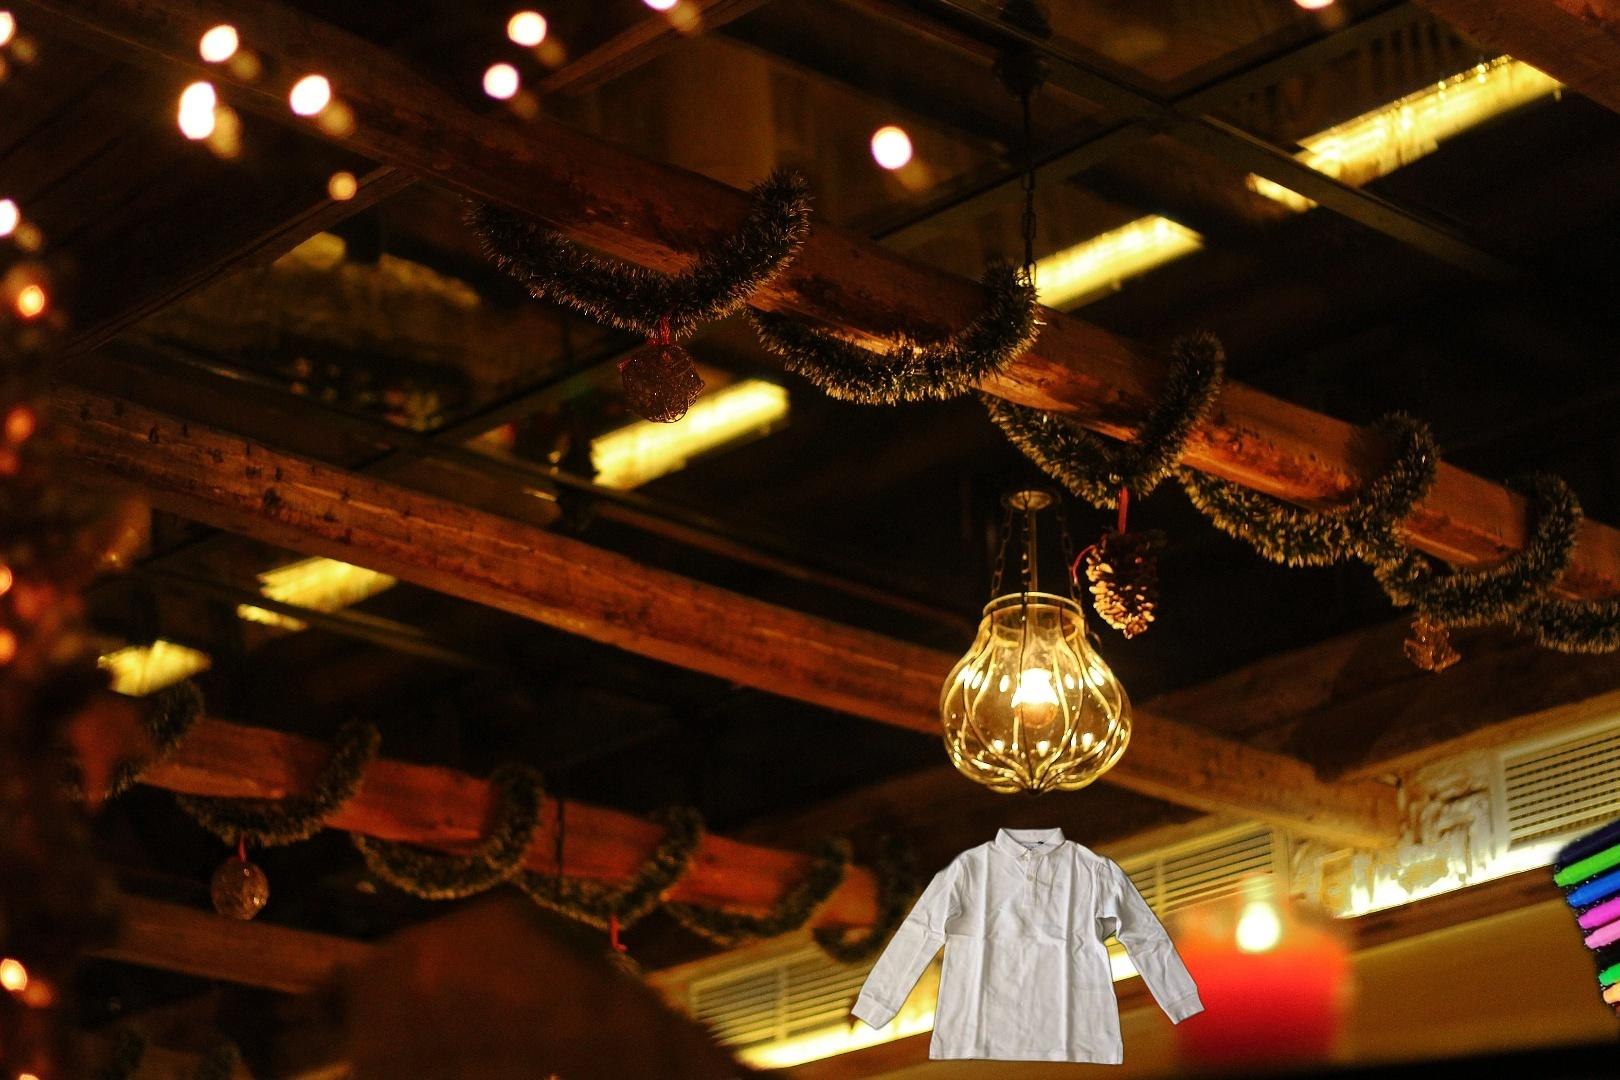clothes: (847, 823, 1210, 1070)
penholder: (1515, 640, 1620, 1080)
